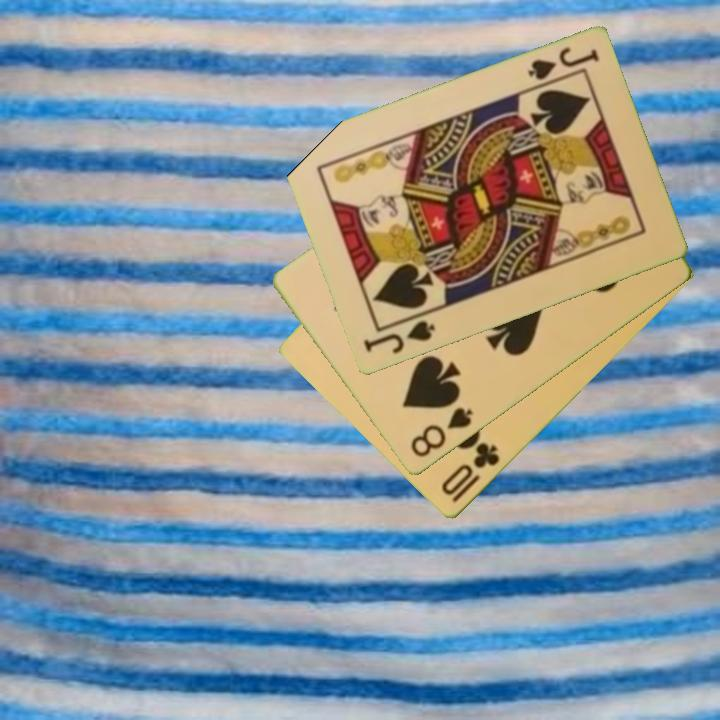10c: (438, 439, 503, 507)
8s: (406, 404, 476, 461)
Js: (524, 44, 602, 91), (359, 317, 438, 357)
